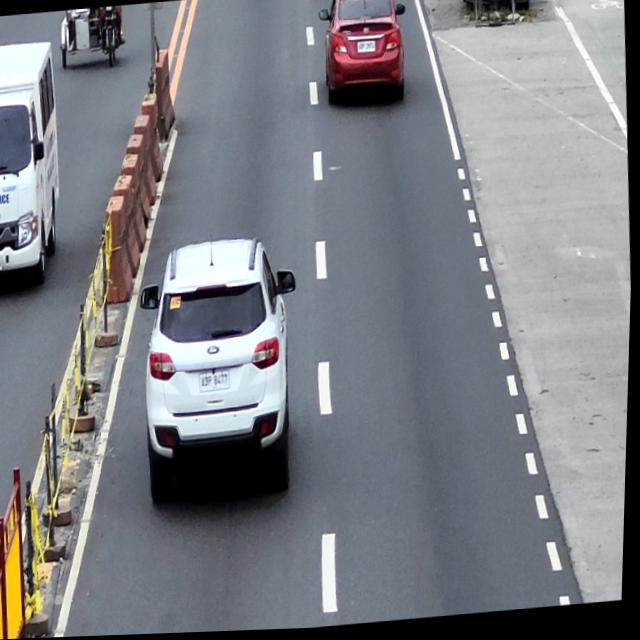Car: (134, 234, 310, 509), (0, 39, 70, 292), (315, 0, 412, 111)
License-Plate: (201, 372, 233, 395), (357, 43, 377, 56), (0, 258, 5, 272)
Tricycle: (58, 6, 125, 75)
